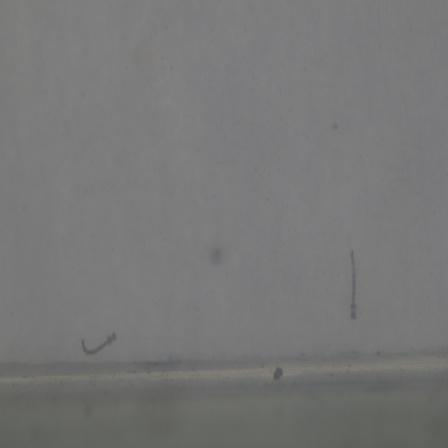Jentik-Nyamuk: (343, 246, 361, 325), (79, 328, 120, 358)
